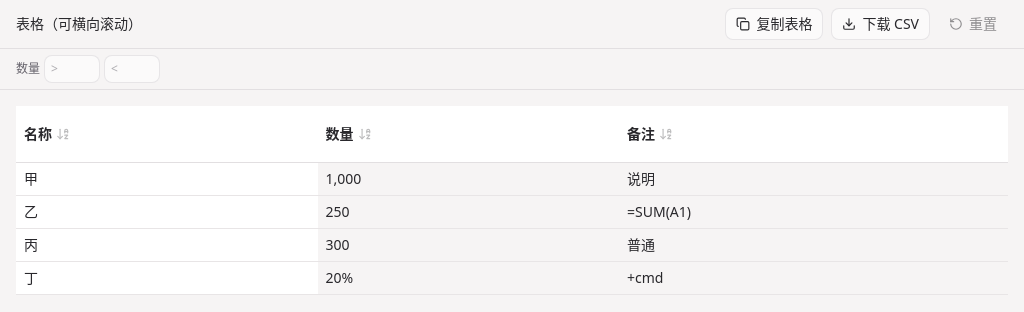
it: F012/F013 WideTablePanel › F012: 剪贴板权限失败 → 错误反馈（诚实失败）
Click the button "复制表格".
click(774, 24)  # box [725,8,823,40]
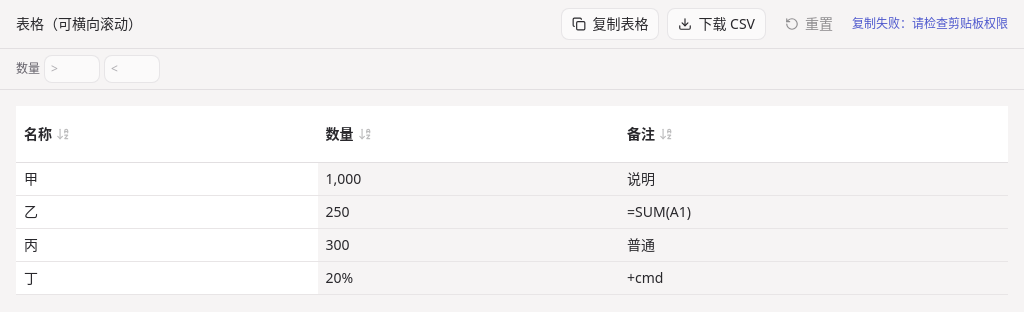
Result: the text "复制失败：请检查剪贴板权限" is shown at [852,16,1008,32]
